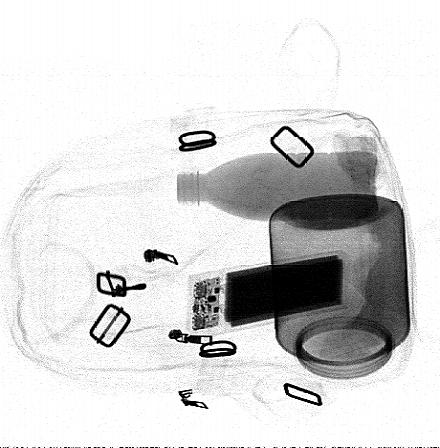Powerbank: (188, 250, 348, 340)
